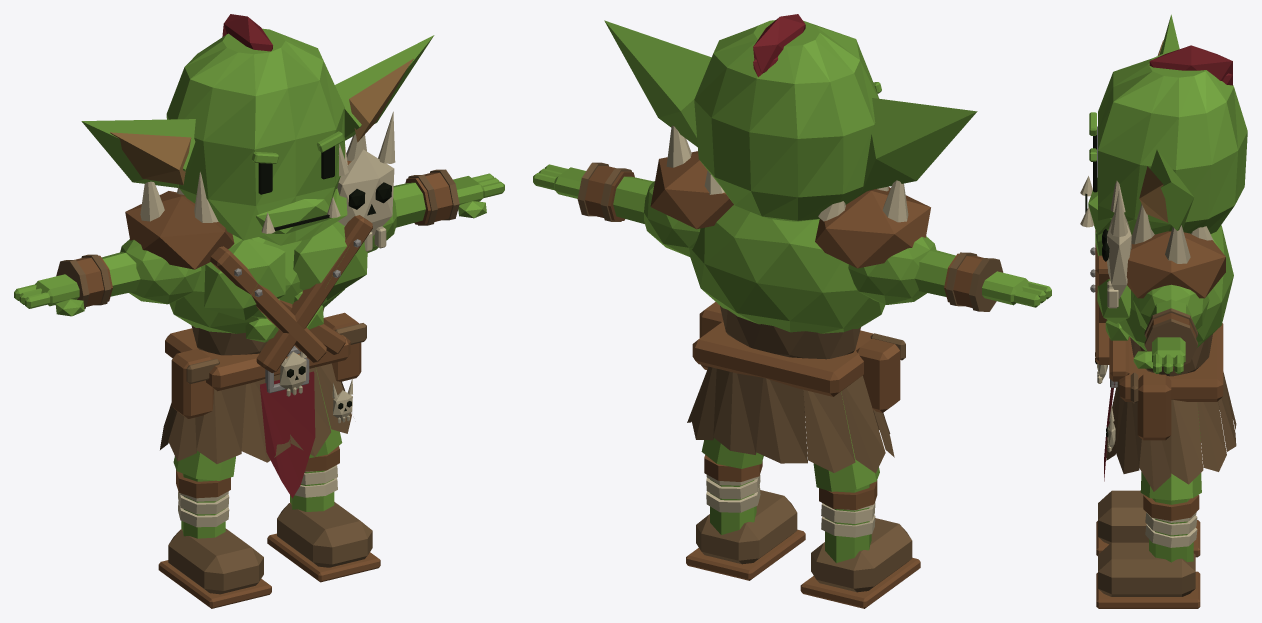
Rendered from orc_soldier.glb.
The picture shows the model from 3 angles, left to right: view 1: azimuth 30°, elevation 25°; view 2: azimuth 150°, elevation 25°; view 3: azimuth 270°, elevation 25°; orthographic projection. The views are drawn at different scales.
Visible parts, largest first — view 1: Body, Lower leg, Lower leg.001, Forearm, Forearm.001, Upper arm, Green thigh; view 2: Body, Lower leg, Lower leg.001, Forearm, Forearm.001, Upper arm, Upper arm.001, Green thigh, Green thigh.001; view 3: Body, Lower leg.001, Forearm.001, Lower leg, Upper arm.001, Green thigh.001.
Part boxes in pixels (box(x1,y1,x2,y2)): Body: box(81, 14, 434, 498); Lower leg: box(158, 469, 271, 608); Lower leg.001: box(267, 446, 380, 582); Forearm: box(14, 252, 140, 316); Forearm.001: box(393, 169, 504, 227); Upper arm: box(120, 239, 201, 304); Green thigh: box(173, 451, 235, 480); Body: box(604, 14, 977, 473); Lower leg: box(800, 480, 920, 608); Lower leg.001: box(686, 455, 805, 580); Forearm: box(915, 250, 1051, 311); Forearm.001: box(533, 162, 653, 223); Upper arm: box(848, 236, 936, 304); Upper arm.001: box(644, 181, 700, 256); Green thigh: box(813, 391, 879, 491); Green thigh.001: box(701, 438, 763, 468); Body: box(1080, 14, 1247, 491); Lower leg.001: box(1096, 495, 1200, 608); Forearm.001: box(1133, 299, 1197, 373); Lower leg: box(1096, 490, 1200, 557); Upper arm.001: box(1133, 284, 1209, 329); Green thigh.001: box(1140, 411, 1201, 500).
Bounding box in the file's own units: 1.76 × 1.89 × 0.5479.
